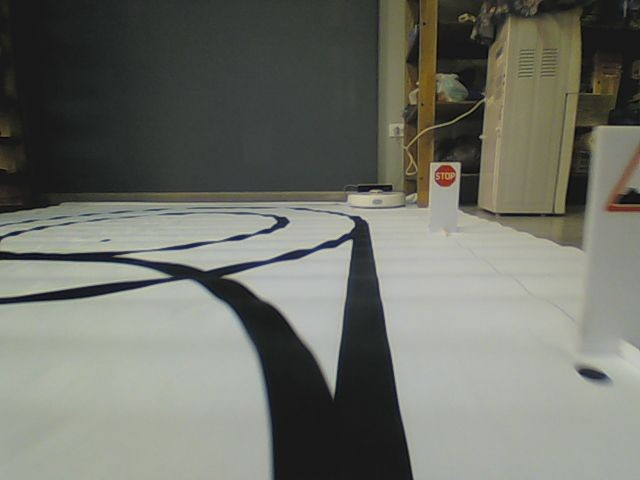Stop: (433, 164, 457, 187)
